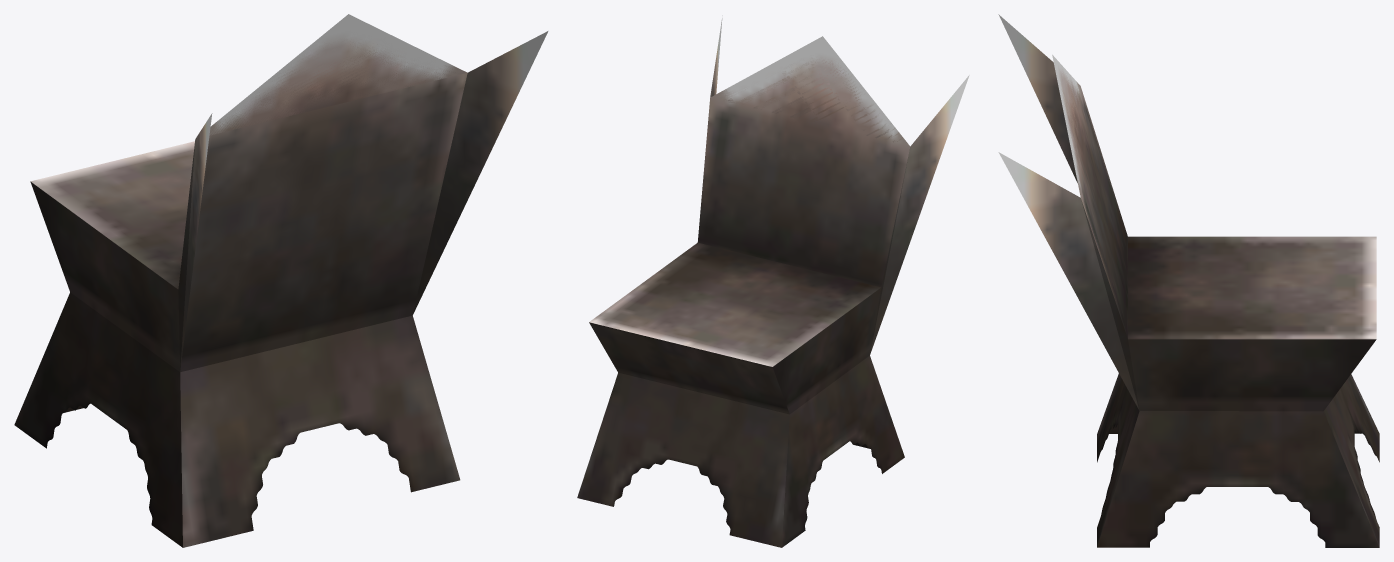
The model's file is stst75.dae.
3 views of the same model, side by side, from view 1: azimuth 30°, elevation 25°; view 2: azimuth 150°, elevation 25°; view 3: azimuth 270°, elevation 25° (orthographic). The views are drawn at different scales.
Parts seen in each view (by area): view 1: fchr; view 2: fchr; view 3: fchr.
Boxes of the visible parts, box(x1,y1,x2,y2) form: fchr: box(14, 14, 548, 547); fchr: box(577, 15, 969, 547); fchr: box(998, 14, 1379, 547).
Bounding box in the file's own units: 0.5851 × 0.6837 × 0.864.
1 material, 1 textured.
